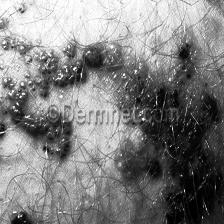Benign Marking or Mole: (0, 0, 98, 157), (121, 76, 220, 224)
